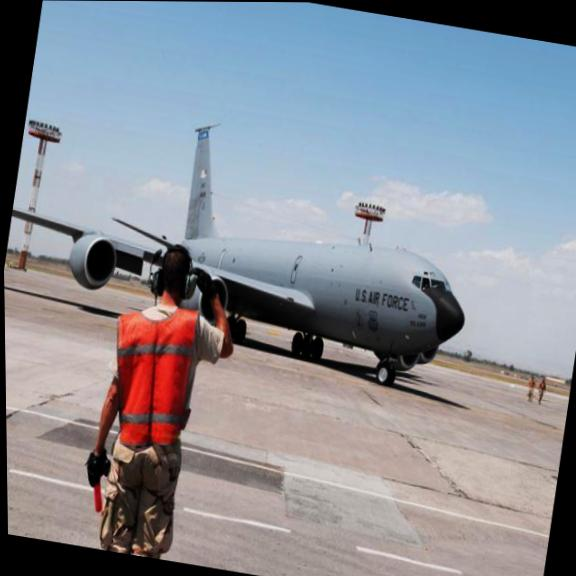safety_vest: (102, 303, 205, 449)
